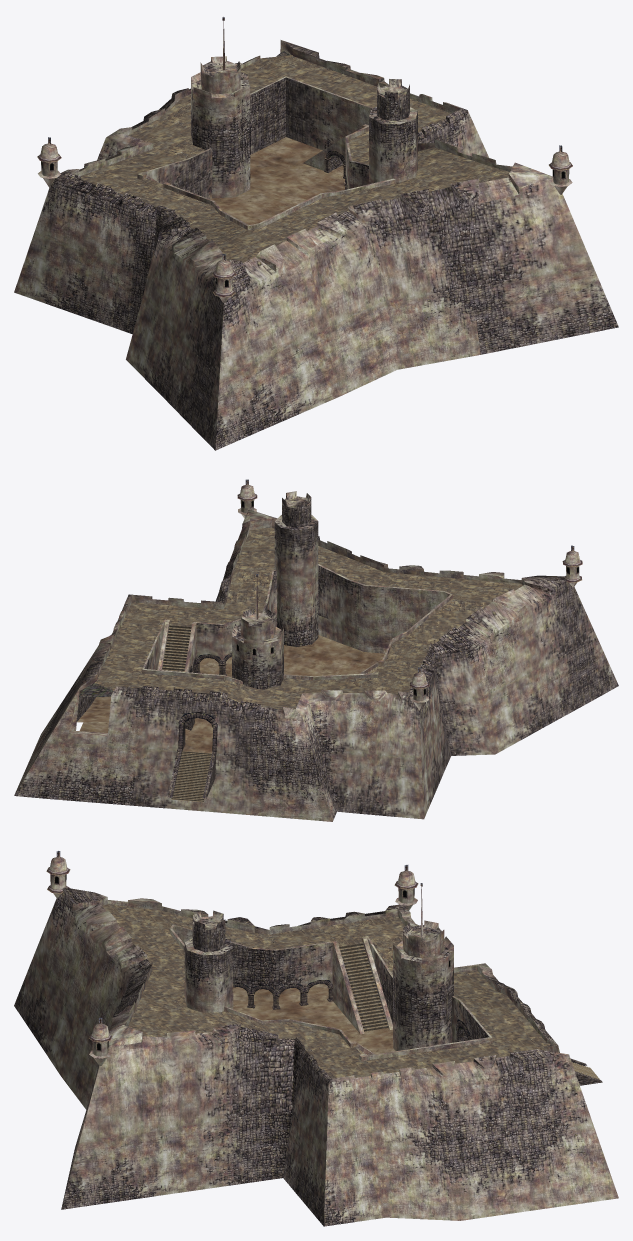
The model's file is fort_mid_kings.fbx.
3 views of the same model, one above another, from view 1: azimuth 30°, elevation 25°; view 2: azimuth 150°, elevation 25°; view 3: azimuth 270°, elevation 25° (orthographic). The views are drawn at different scales.
Parts seen in each view (by area): view 1: fort_medium:polySurface280, fort_mid_TopFloor, Int_walls8, tower11, LandSurface1, tower14, polySurface282, corner_tower2, corner_tower, corner_tower3; view 2: fort_medium:polySurface280, fort_mid_TopFloor, Int_walls8, tower14, LandSurface1, tower11, polySurface282, polySurface456, Stairs1, fort_mid_Interior_polySurface198, fort_mid_Interior_polySurface199, corner_tower; view 3: fort_medium:polySurface280, fort_mid_TopFloor, tower11, Int_walls8, tower14, LandSurface1, polySurface282, Stairs2, corner_tower3, corner_tower2, corner_tower.
Boxes of the visible parts, x1=… form: fort_medium:polySurface280: x1=14, y1=40, x2=618, y2=450; fort_mid_TopFloor: x1=80, y1=55, x2=509, y2=262; Int_walls8: x1=143, y1=77, x2=371, y2=199; tower11: x1=191, y1=56, x2=250, y2=198; LandSurface1: x1=210, y1=137, x2=345, y2=224; tower14: x1=369, y1=79, x2=417, y2=184; polySurface282: x1=137, y1=76, x2=395, y2=230; corner_tower2: x1=212, y1=260, x2=236, y2=302; corner_tower: x1=37, y1=143, x2=61, y2=187; corner_tower3: x1=549, y1=151, x2=572, y2=194; fort_medium:polySurface280: x1=14, y1=510, x2=618, y2=821; fort_mid_TopFloor: x1=95, y1=527, x2=522, y2=709; Int_walls8: x1=144, y1=565, x2=449, y2=674; tower14: x1=274, y1=491, x2=318, y2=646; LandSurface1: x1=79, y1=635, x2=384, y2=753; tower11: x1=232, y1=608, x2=283, y2=689; polySurface282: x1=142, y1=564, x2=452, y2=684; polySurface456: x1=171, y1=751, x2=211, y2=802; Stairs1: x1=162, y1=625, x2=191, y2=671; fort_mid_Interior_polySurface198: x1=77, y1=661, x2=195, y2=749; fort_mid_Interior_polySurface199: x1=77, y1=696, x2=190, y2=741; corner_tower: x1=409, y1=672, x2=429, y2=710; fort_medium:polySurface280: x1=14, y1=887, x2=618, y2=1226; fort_mid_TopFloor: x1=102, y1=904, x2=550, y2=1078; tower11: x1=393, y1=920, x2=453, y2=1050; Int_walls8: x1=172, y1=925, x2=489, y2=1051; tower14: x1=184, y1=910, x2=233, y2=1012; LandSurface1: x1=233, y1=983, x2=395, y2=1054; polySurface282: x1=169, y1=924, x2=492, y2=1061; Stairs2: x1=339, y1=943, x2=388, y2=1031; corner_tower3: x1=89, y1=1023, x2=112, y2=1065; corner_tower2: x1=46, y1=856, x2=70, y2=898; corner_tower: x1=394, y1=870, x2=418, y2=910.
Size of the model in its own units: 41066 by 19966 by 47403.
7 materials, 7 textured.
